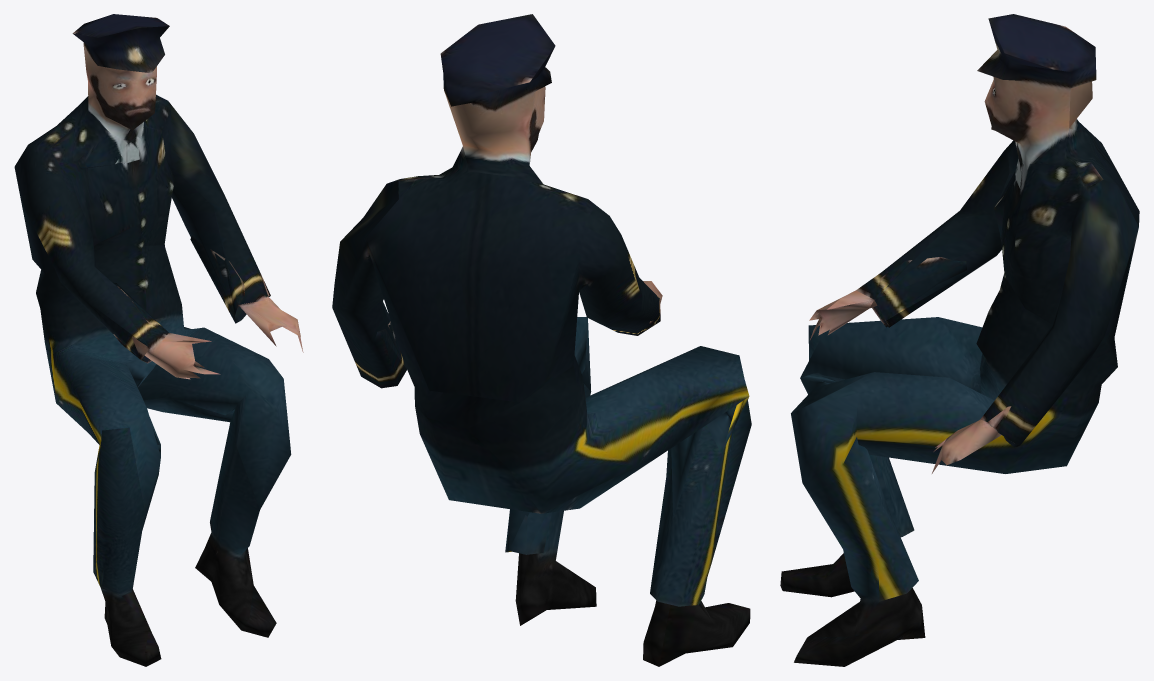
File: pilot.obj
3 renders of one model, left to right at view 1: azimuth 30°, elevation 25°; view 2: azimuth 150°, elevation 25°; view 3: azimuth 270°, elevation 25°, orthographic. The views are drawn at different scales.
Visible parts, largest first — view 1: pilot; view 2: pilot; view 3: pilot.
Part boxes in pixels (box(x1,y1,x2,y2)): pilot: box(14, 14, 303, 666); pilot: box(332, 14, 751, 666); pilot: box(780, 14, 1139, 666).
Size of the model in its own units: 0.6843 by 1.44 by 0.7516.
1 material, 1 textured.
